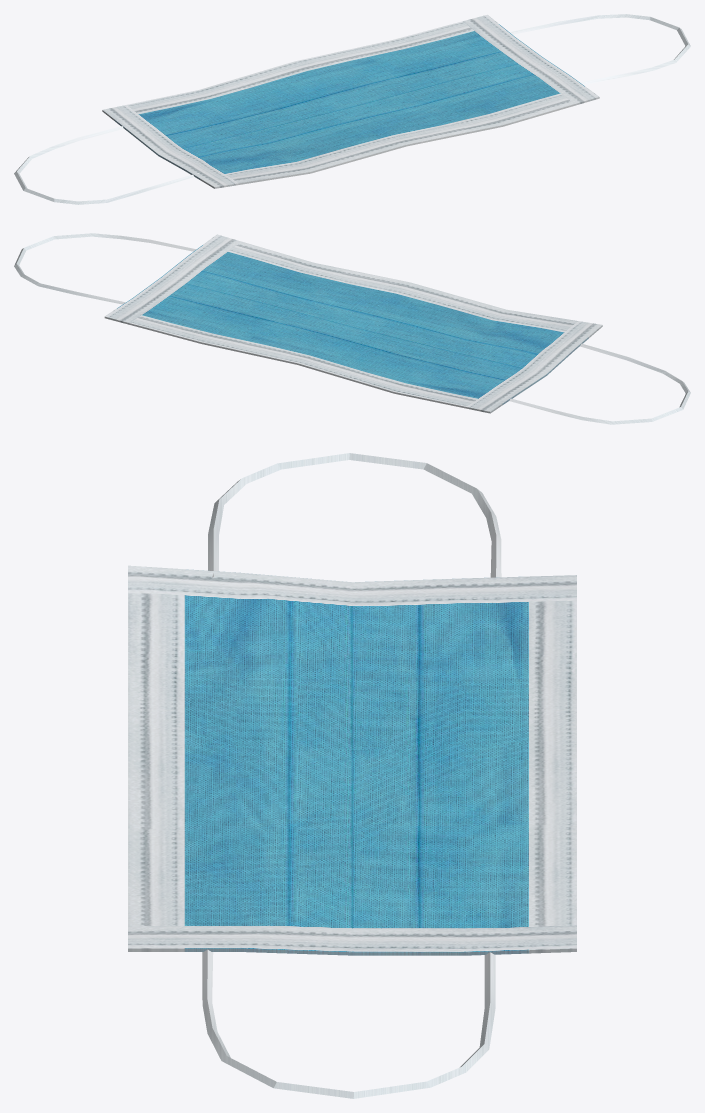
File: Mask.fbx
The picture shows the model from 3 angles, top to bottom: view 1: azimuth 30°, elevation 25°; view 2: azimuth 150°, elevation 25°; view 3: azimuth 270°, elevation 25°; orthographic projection. The views are drawn at different scales.
Parts seen in each view (by area): view 1: Mask; view 2: Mask; view 3: Mask.
Part boxes in pixels (x1,y1,x2,y2): Mask: (14,14,690,204); Mask: (14,233,690,424); Mask: (128,453,576,1098).
Size of the model in its own units: 1.28 by 0.0206 by 0.3767.
1 material, 1 textured.
